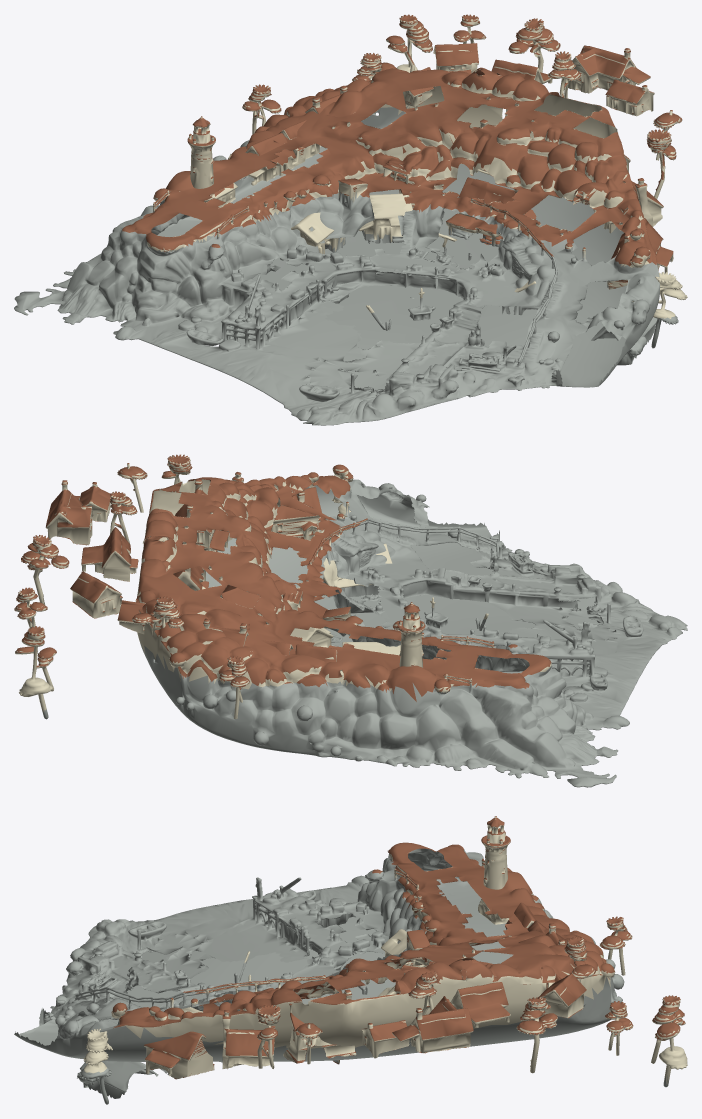
File: harbor_dressed.glb
3 renders of one model, top to bottom at view 1: azimuth 30°, elevation 25°; view 2: azimuth 150°, elevation 25°; view 3: azimuth 270°, elevation 25°, orthographic. The views are drawn at different scales.
Parts seen in each view (by area): view 1: tripo_part_0, tripo_part_13, tripo_part_5, tripo_part_12, tripo_part_25, tripo_part_31, tripo_part_8, tripo_part_20, tripo_part_29, tripo_part_11, tripo_part_14, tripo_part_1 (+8 smaller); view 2: tripo_part_0, tripo_part_13, tripo_part_17, tripo_part_8, tripo_part_29, tripo_part_9, tripo_part_12, tripo_part_14, tripo_part_7, tripo_part_4, tripo_part_3, tripo_part_31 (+8 smaller); view 3: tripo_part_0, tripo_part_13, tripo_part_9, tripo_part_12, tripo_part_8, tripo_part_17, tripo_part_16, tripo_part_29, tripo_part_15, tripo_part_14, tripo_part_3, tripo_part_1 (+7 smaller).
Boxes of the visible parts, x1,y1,x2,y2 form: tripo_part_0: (14,67,660,425); tripo_part_13: (568,45,650,93); tripo_part_5: (446,177,536,246); tripo_part_12: (187,116,237,207); tripo_part_25: (359,193,412,243); tripo_part_31: (605,79,654,116); tripo_part_8: (386,14,432,72); tripo_part_20: (240,133,296,185); tripo_part_29: (433,43,478,74); tripo_part_11: (280,212,345,265); tripo_part_14: (515,18,560,72); tripo_part_1: (632,272,687,348); tripo_part_0: (135,464,687,787); tripo_part_13: (45,480,93,545); tripo_part_17: (81,527,138,581); tripo_part_8: (15,626,56,719); tripo_part_29: (70,571,122,618); tripo_part_9: (271,487,321,540); tripo_part_12: (397,602,425,667); tripo_part_14: (21,535,58,604); tripo_part_7: (323,543,392,597); tripo_part_4: (132,596,184,635); tripo_part_3: (175,479,229,551); tripo_part_31: (79,482,110,522); tripo_part_0: (14,842,624,1061); tripo_part_13: (392,996,473,1053); tripo_part_9: (144,1031,214,1079); tripo_part_12: (478,816,510,924); tripo_part_8: (651,995,687,1087); tripo_part_17: (450,982,510,1027); tripo_part_16: (222,1010,275,1069); tripo_part_29: (537,973,586,1018); tripo_part_15: (77,1061,158,1098); tripo_part_14: (516,997,557,1073); tripo_part_3: (283,989,356,1063); tripo_part_1: (79,1028,112,1104).
Size of the model in its own units: 1.1 by 0.2947 by 1.06.
